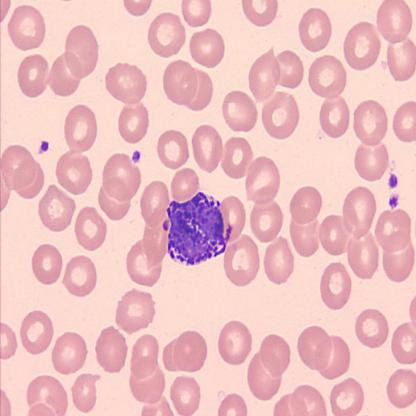Basophil: (160, 188, 234, 270)
